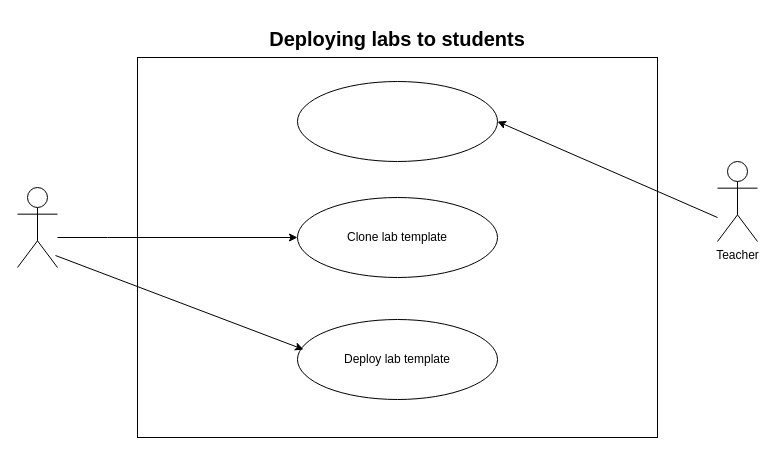
Image size: 776x455. Some labels were removed from this diagram. The shapes that lost their labels are listed below. From the top down, each one's centre as x and y in pixels, then its label:
the point at 397,121: Distribute lab template
the point at 37,227: Student
